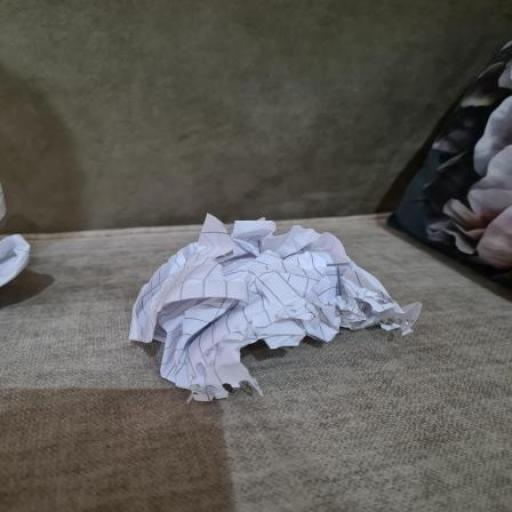paper: (127, 218, 412, 393)
